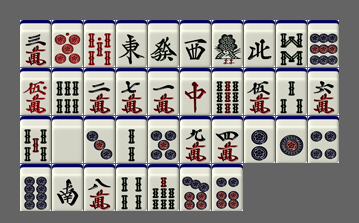0m: (20, 68, 51, 115)
0p: (52, 20, 83, 67)
0s: (84, 20, 115, 67)
1m: (148, 68, 179, 115)
1p: (276, 116, 307, 163)
1s: (212, 20, 243, 67)
1z: (116, 20, 147, 67)
2m: (84, 68, 115, 115)
2p: (244, 116, 275, 163)
2s: (116, 116, 147, 163)
2z: (52, 164, 83, 211)
3m: (20, 20, 51, 67)
3p: (84, 116, 115, 163)
3s: (276, 68, 307, 115)
3z: (180, 20, 211, 67)
4m: (212, 116, 243, 163)
4p: (308, 116, 339, 163)
4s: (116, 164, 147, 211)
4z: (244, 20, 275, 67)
5m: (244, 68, 275, 115)
5p: (148, 116, 179, 163)
5s: (20, 116, 51, 163)
5z: (52, 116, 83, 163)
6m: (308, 68, 339, 115)
6p: (212, 164, 243, 211)
6s: (52, 68, 83, 115)
6z: (148, 20, 179, 67)
7m: (116, 68, 147, 115)
7p: (180, 164, 211, 211)
7s: (148, 164, 179, 211)
7z: (180, 68, 211, 115)
8m: (84, 164, 115, 211)
8p: (20, 164, 51, 211)
8s: (276, 20, 307, 67)
9m: (180, 116, 211, 163)
9p: (308, 20, 339, 67)
9s: (212, 68, 243, 115)
